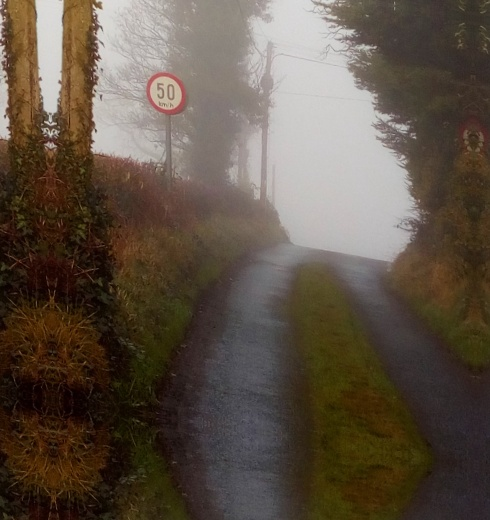Speed limit: (135, 67, 190, 124)
